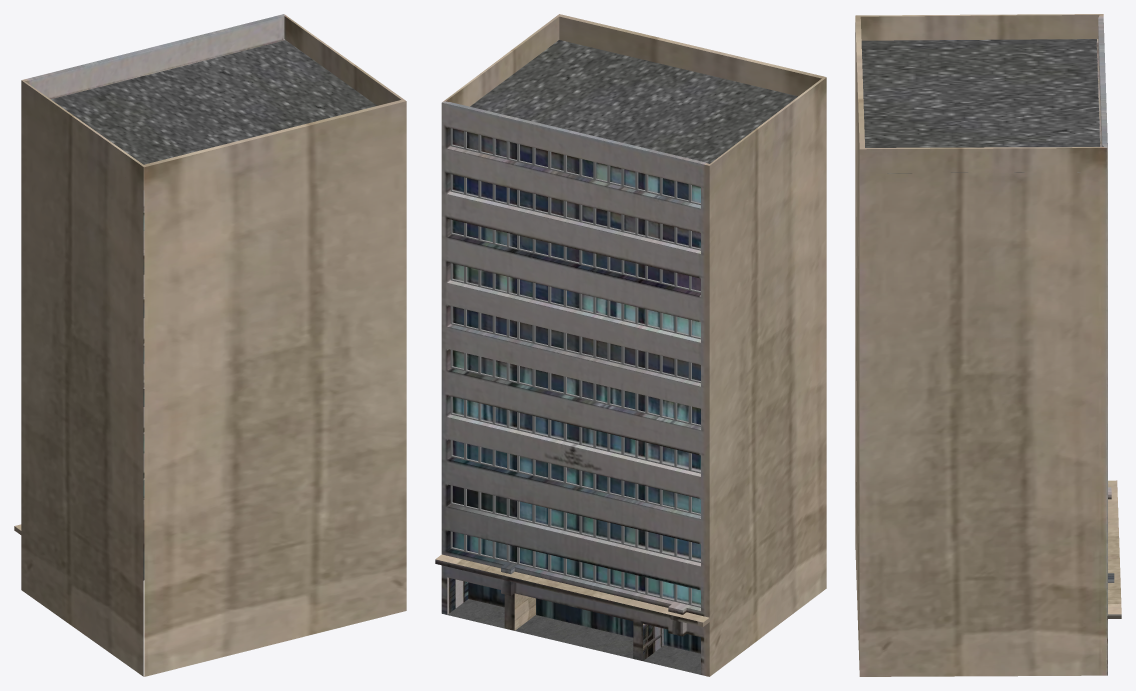
The model's file is low-poly_detailed_building.glb.
The picture shows the model from 3 angles, left to right: view 1: azimuth 30°, elevation 25°; view 2: azimuth 150°, elevation 25°; view 3: azimuth 270°, elevation 25°; orthographic projection. The views are drawn at different scales.
Visible parts, largest first — view 1: MINISTRY OF FINANCE.001_MINISTRY OF FINANCE_0, MINISTRY OF FINANCE.001_asphalt cracked_0; view 2: MINISTRY OF FINANCE.001_MINISTRY OF FINANCE_0, MINISTRY OF FINANCE.001_Material.013_0, MINISTRY OF FINANCE.001_asphalt cracked_0, MINISTRY OF FINANCE.001_ALU_0; view 3: MINISTRY OF FINANCE.001_MINISTRY OF FINANCE_0, MINISTRY OF FINANCE.001_asphalt cracked_0.
Boxes of the visible parts, box(x1,y1,x2,y2) form: MINISTRY OF FINANCE.001_MINISTRY OF FINANCE_0: box(14, 14, 406, 676); MINISTRY OF FINANCE.001_asphalt cracked_0: box(51, 40, 376, 164); MINISTRY OF FINANCE.001_MINISTRY OF FINANCE_0: box(435, 14, 826, 676); MINISTRY OF FINANCE.001_Material.013_0: box(452, 128, 700, 605); MINISTRY OF FINANCE.001_asphalt cracked_0: box(447, 40, 797, 674); MINISTRY OF FINANCE.001_ALU_0: box(450, 128, 700, 607); MINISTRY OF FINANCE.001_MINISTRY OF FINANCE_0: box(855, 14, 1121, 676); MINISTRY OF FINANCE.001_asphalt cracked_0: box(861, 39, 1100, 173).
Size of the model in its own units: 23.23 by 42.22 by 19.32.
Materials: 4 (3 with a texture image).
